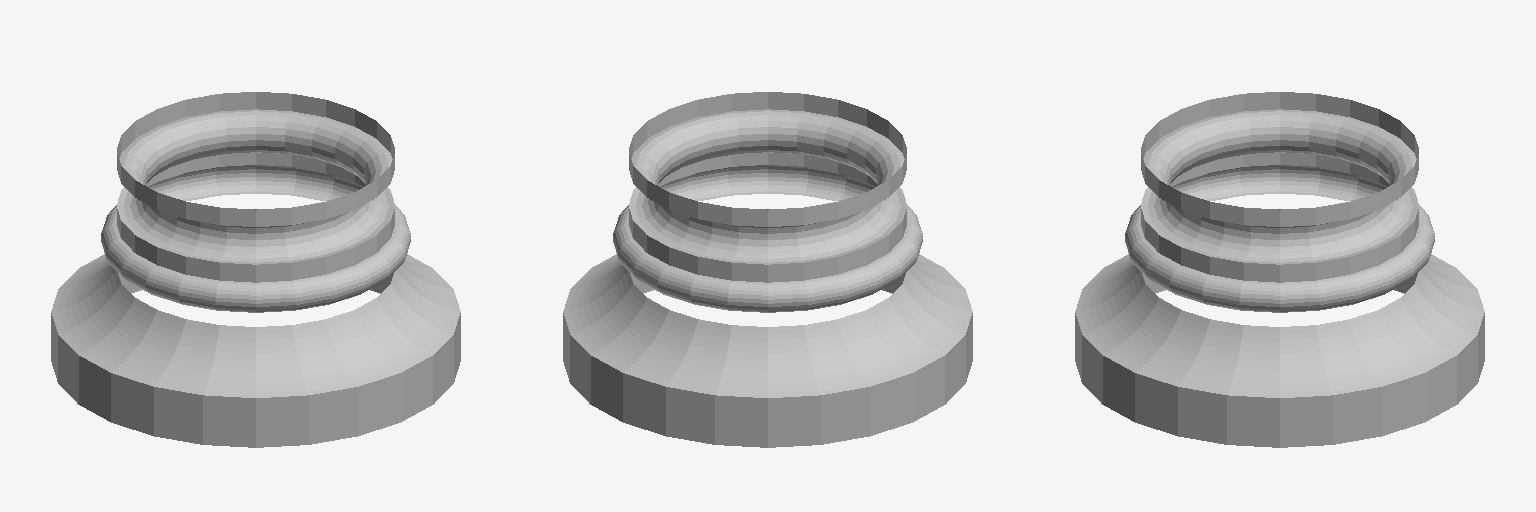
Rendered from podstawa.obj.
3 views of the same model, side by side, from view 1: azimuth 30°, elevation 25°; view 2: azimuth 150°, elevation 25°; view 3: azimuth 270°, elevation 25° (orthographic).
Parts seen in each view (by area): view 1: SketchUp.294, SketchUp.290, SketchUp.295, SketchUp.292, SketchUp.289, SketchUp.291; view 2: SketchUp.294, SketchUp.290, SketchUp.295, SketchUp.292, SketchUp.289, SketchUp.291; view 3: SketchUp.294, SketchUp.290, SketchUp.295, SketchUp.292, SketchUp.289, SketchUp.291.
Part boxes in pixels (x1,y1,x2,y2): SketchUp.294: (51,209,460,397); SketchUp.290: (117,109,394,264); SketchUp.295: (51,273,460,447); SketchUp.292: (101,165,410,312); SketchUp.289: (117,92,394,226); SketchUp.291: (117,152,394,282); SketchUp.294: (563,209,972,397); SketchUp.290: (629,109,906,264); SketchUp.295: (563,273,972,447); SketchUp.292: (613,165,922,312); SketchUp.289: (629,92,906,226); SketchUp.291: (629,152,906,282); SketchUp.294: (1075,209,1484,397); SketchUp.290: (1141,109,1418,264); SketchUp.295: (1075,273,1484,447); SketchUp.292: (1125,165,1434,312); SketchUp.289: (1141,92,1418,226); SketchUp.291: (1141,152,1418,282).
Bounding box in the file's own units: 0.4983 × 0.2829 × 0.4983.